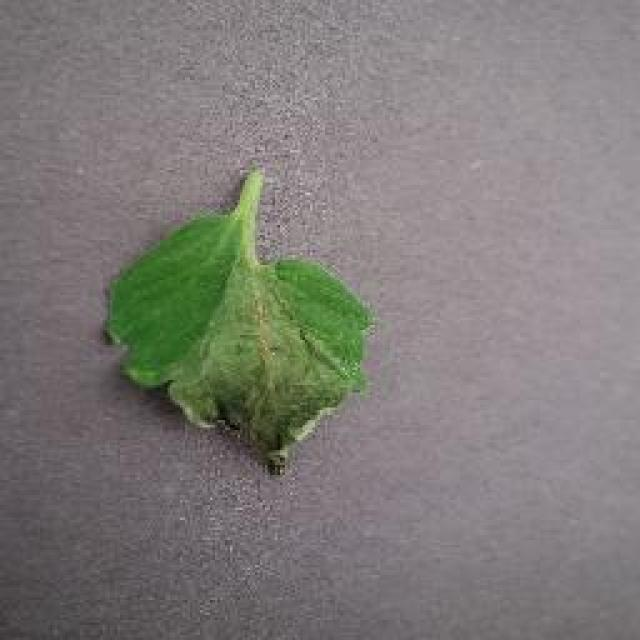Tomato___Late_blight: (102, 172, 372, 478)
